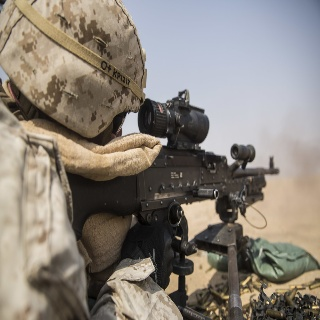rifle: (68, 89, 282, 320)
